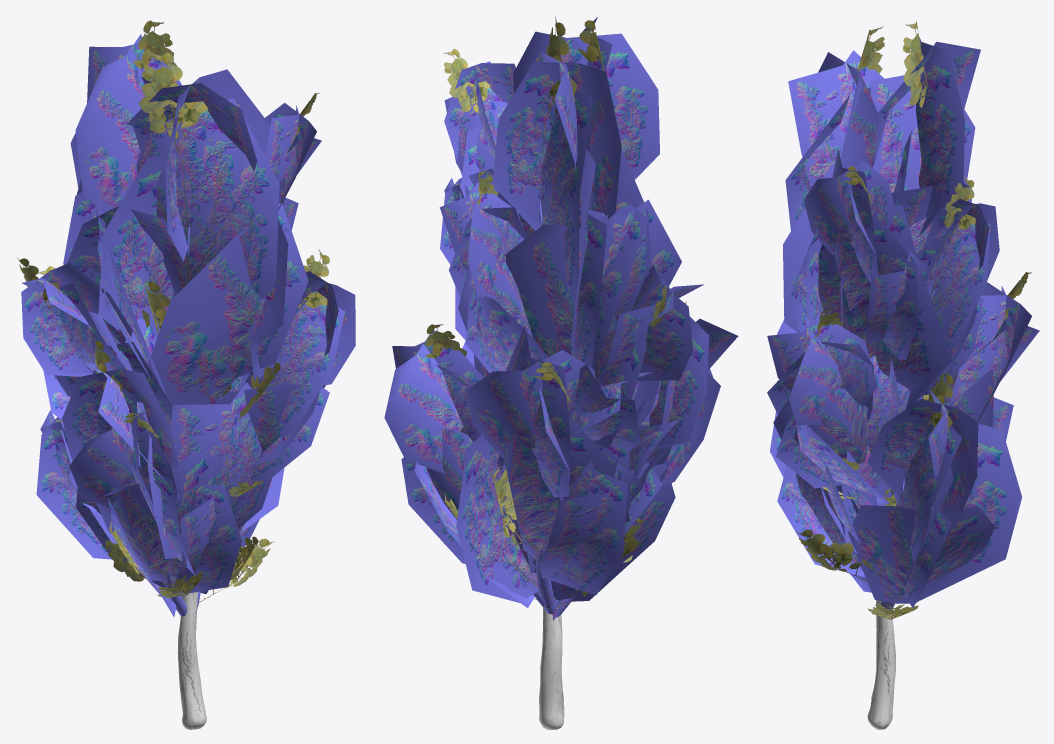
Rendered from PoplarTree00f.fbx.
The picture shows the model from 3 angles, left to right: view 1: azimuth 30°, elevation 25°; view 2: azimuth 150°, elevation 25°; view 3: azimuth 270°, elevation 25°; orthographic projection. The views are drawn at different scales.
Parts seen in each view (by area): view 1: PoplarBranchA036, PoplarBranchB024, PoplarBranchB023, PoplarBranchB019, PoplarBranchA, PoplarBranchB007, PoplarBranchA016, PoplarBranchB004, PoplarBranchB022, PoplarBranchA045, PoplarBranchB025, PoplarBranchB006 (+41 smaller); view 2: PoplarBranchB019, PoplarBranchB003, PoplarBranchB021, PoplarBranchB022, PoplarBranchB028, PoplarBranchB001, PoplarBranchB002, PoplarBranchA031, PoplarBranchA005, PoplarBranchA002, PoplarBranchB007, PoplarBranchB004 (+40 smaller); view 3: PoplarBranchB030, PoplarBranchB019, PoplarBranchB024, PoplarBranchB028, PoplarBranchB003, PoplarBranchA037, PoplarBranchA031, PoplarBranchA021, PoplarBranchB016, PoplarBranchA017, PoplarBranchB011, PoplarBranchA046 (+41 smaller).
Boxes of the visible parts, x1=… form: PoplarBranchA036: x1=136, y1=98, x2=279, y2=298; PoplarBranchB024: x1=145, y1=225, x2=261, y2=405; PoplarBranchB023: x1=98, y1=154, x2=288, y2=350; PoplarBranchB019: x1=75, y1=34, x2=145, y2=212; PoplarBranchA: x1=170, y1=382, x2=272, y2=528; PoplarBranchB007: x1=21, y1=262, x2=132, y2=376; PoplarBranchA016: x1=245, y1=304, x2=344, y2=436; PoplarBranchB004: x1=62, y1=368, x2=178, y2=468; PoplarBranchB022: x1=165, y1=69, x2=270, y2=261; PoplarBranchA045: x1=168, y1=484, x2=241, y2=594; PoplarBranchB025: x1=69, y1=401, x2=148, y2=509; PoplarBranchB006: x1=96, y1=451, x2=223, y2=563; PoplarBranchB019: x1=492, y1=61, x2=621, y2=230; PoplarBranchB003: x1=456, y1=434, x2=539, y2=602; PoplarBranchB021: x1=504, y1=204, x2=634, y2=357; PoplarBranchB022: x1=513, y1=31, x2=659, y2=179; PoplarBranchB028: x1=384, y1=330, x2=469, y2=473; PoplarBranchB001: x1=467, y1=350, x2=595, y2=459; PoplarBranchB002: x1=503, y1=420, x2=630, y2=556; PoplarBranchA031: x1=541, y1=91, x2=592, y2=306; PoplarBranchA005: x1=542, y1=460, x2=627, y2=594; PoplarBranchA002: x1=506, y1=326, x2=570, y2=497; PoplarBranchB007: x1=631, y1=265, x2=692, y2=381; PoplarBranchB004: x1=649, y1=316, x2=709, y2=450; PoplarBranchB030: x1=848, y1=505, x2=995, y2=603; PoplarBranchB019: x1=915, y1=37, x2=964, y2=236; PoplarBranchB024: x1=818, y1=244, x2=952, y2=408; PoplarBranchB028: x1=867, y1=399, x2=978, y2=513; PoplarBranchB003: x1=918, y1=398, x2=1021, y2=600; PoplarBranchA037: x1=788, y1=50, x2=884, y2=186; PoplarBranchA031: x1=870, y1=75, x2=975, y2=253; PoplarBranchA021: x1=923, y1=223, x2=989, y2=350; PoplarBranchB016: x1=804, y1=161, x2=895, y2=255; PoplarBranchA017: x1=767, y1=314, x2=877, y2=406; PoplarBranchB011: x1=773, y1=388, x2=869, y2=463; PoplarBranchA046: x1=898, y1=396, x2=961, y2=561.
Size of the model in its own units: 1001 by 2393 by 843.
